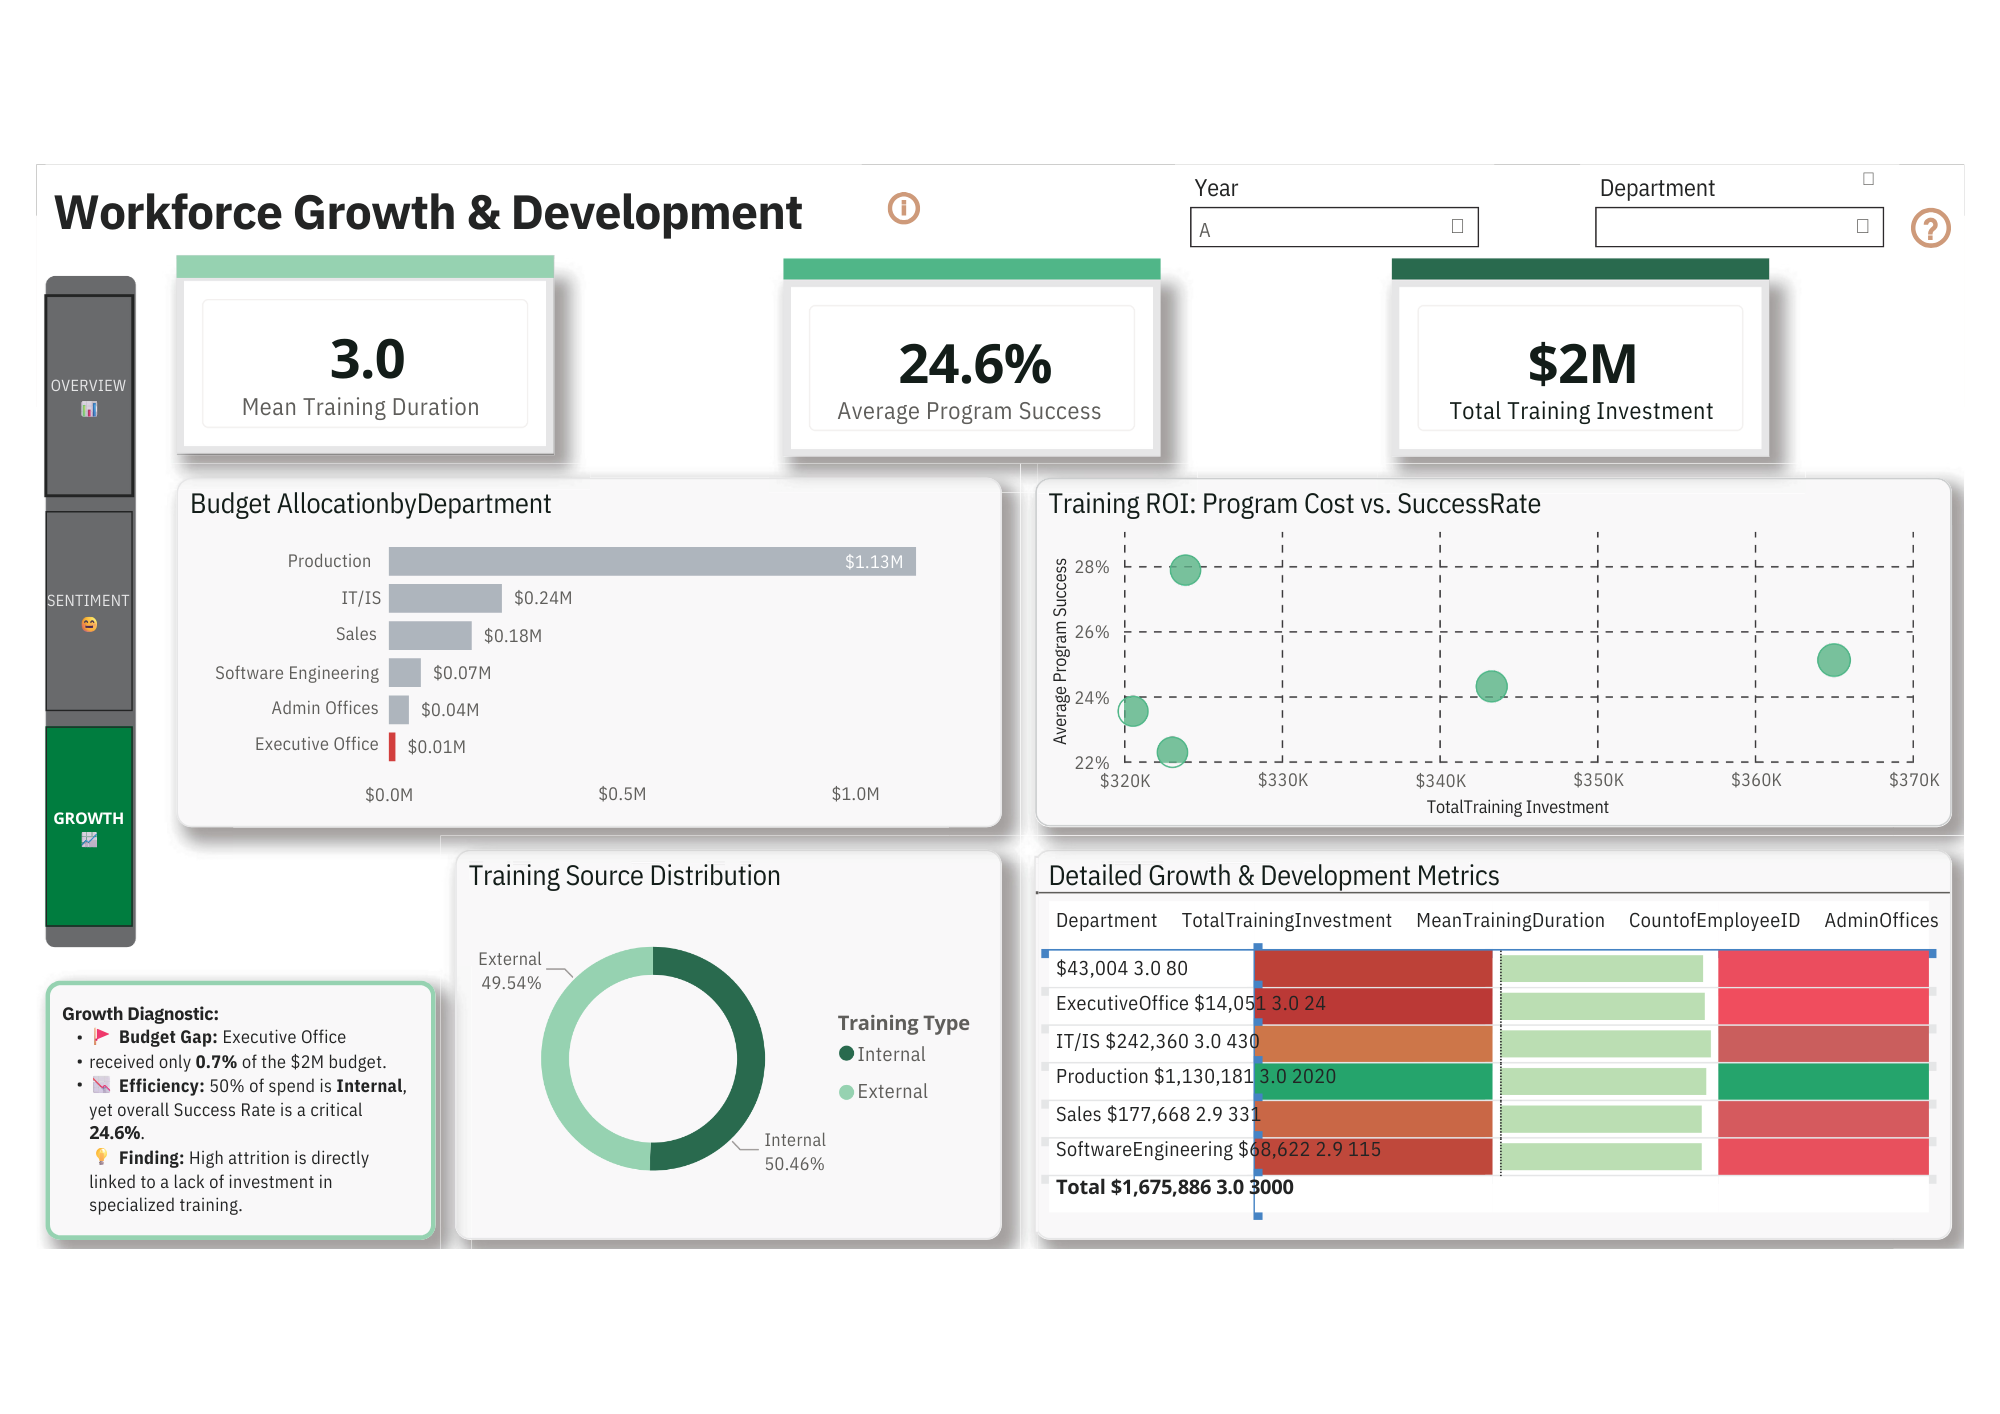

Layout of this report page (visuals, bound fields, positions):
{"tool":"powerbi","page":{"name":"GROWTH 📈","canvas":[1280,720],"ordinal":2},"visuals":[{"type":"textbox","box":[5.7,0,542.4,60.5],"z":0},{"type":"cardVisual","fields":{"Data":["_Measures.Avg Training Duration"]},"box":[92.6,72.1,250.8,120.7],"z":0,"group":"g1"},{"type":"group","id":"g1","title":"Group 1","box":[92.6,60.5,251.3,132.3],"z":1000},{"type":"cardVisual","fields":{"Data":["_Measures.Success Rate"]},"box":[496.4,75.8,250.8,118.1],"z":1000,"group":"g2"},{"type":"group","id":"g2","title":"Group 2","box":[496.4,61.6,251.1,132.6],"z":2000},{"type":"cardVisual","fields":{"Data":["_Measures.Total Training Cost"]},"box":[900,75.8,250.8,118.1],"z":2000,"group":"g3"},{"type":"group","id":"g3","title":"Group 3","box":[900,61.6,251.1,132.6],"z":3000},{"type":"shape","box":[5.7,73.7,60,446],"z":4000},{"type":"pageNavigator","box":[5.7,86.9,58,419.5],"z":5000},{"type":"textbox","box":[5.7,542.4,258.9,172],"z":6000},{"type":"pivotTable","title":"Detailed Growth & Development Metrics","fields":{"Rows":["employee_data.Department"],"Values":["_Measures.Total Training Cost","_Measures.Avg Training Duration","CountNonNull(training_and_development_data.Employee ID)"]},"box":[663.3,455.4,608.5,258.9],"z":7000},{"type":"shape","box":[92.6,60.5,250.8,14.5],"z":8000,"group":"g1"},{"type":"donutChart","title":"Training Source Distribution","fields":{"Category":["training_and_development_data.Training Type"],"Y":["_Measures.Total Training Cost"]},"box":[277.8,455.4,362.8,258.9],"z":8000},{"type":"shape","box":[496.4,61.6,250.8,14.2],"z":8001,"group":"g2"},{"type":"shape","box":[900,61.6,250.8,14.2],"z":8002,"group":"g3"},{"type":"clusteredBarChart","title":"Budget Allocation by Department","fields":{"Y":["_Measures.Total Training Cost"],"Category":["employee_data.Department"]},"box":[92.6,207.9,548,232.4],"z":9000},{"type":"scatterChart","title":"Training ROI: Program Cost vs. Success Rate","fields":{"X":["_Measures.Total Training Cost"],"Y":["_Measures.Success Rate"],"Category":["training_and_development_data.Training Program Name"],"Size":["CountNonNull(training_and_development_data.Employee ID)"]},"box":[663.3,207.9,608.5,232.4],"z":10000},{"type":"slicer","fields":{"Values":["employee_data.Department Type"]},"box":[1024.8,0,211.8,61.2],"z":11000},{"type":"slicer","fields":{"Values":["Dim_Calendar.Year"]},"box":[756.3,0,211.8,61.2],"z":12000},{"type":"actionButton","box":[560.5,11.1,30,36.3],"z":13000},{"type":"actionButton","box":[1236.3,23.7,42.6,36.3],"z":13001}]}

Visuals, with their boxes on the page's 1280x720 design canvas (x1, y1, x2, y2). These are canvas units, not pixel positions in the 2000x1414 screenshot, which may show the page scaled, cropped or inside an application window:
textbox: (left=6, top=0, right=548, bottom=60)
cardVisual - _Measures.Avg Training Duration: (left=93, top=72, right=343, bottom=193)
"Group 1" group: (left=93, top=60, right=344, bottom=193)
cardVisual - _Measures.Success Rate: (left=496, top=76, right=747, bottom=194)
"Group 2" group: (left=496, top=62, right=748, bottom=194)
cardVisual - _Measures.Total Training Cost: (left=900, top=76, right=1151, bottom=194)
"Group 3" group: (left=900, top=62, right=1151, bottom=194)
shape: (left=6, top=74, right=66, bottom=520)
pageNavigator: (left=6, top=87, right=64, bottom=506)
textbox: (left=6, top=542, right=265, bottom=714)
"Detailed Growth & Development Metrics" pivotTable: (left=663, top=455, right=1272, bottom=714)
shape: (left=93, top=60, right=343, bottom=75)
"Training Source Distribution" donutChart: (left=278, top=455, right=641, bottom=714)
shape: (left=496, top=62, right=747, bottom=76)
shape: (left=900, top=62, right=1151, bottom=76)
"Budget Allocation by Department" clusteredBarChart: (left=93, top=208, right=641, bottom=440)
"Training ROI: Program Cost vs. Success Rate" scatterChart: (left=663, top=208, right=1272, bottom=440)
slicer - employee_data.Department Type: (left=1025, top=0, right=1237, bottom=61)
slicer - Dim_Calendar.Year: (left=756, top=0, right=968, bottom=61)
actionButton: (left=560, top=11, right=590, bottom=47)
actionButton: (left=1236, top=24, right=1279, bottom=60)
